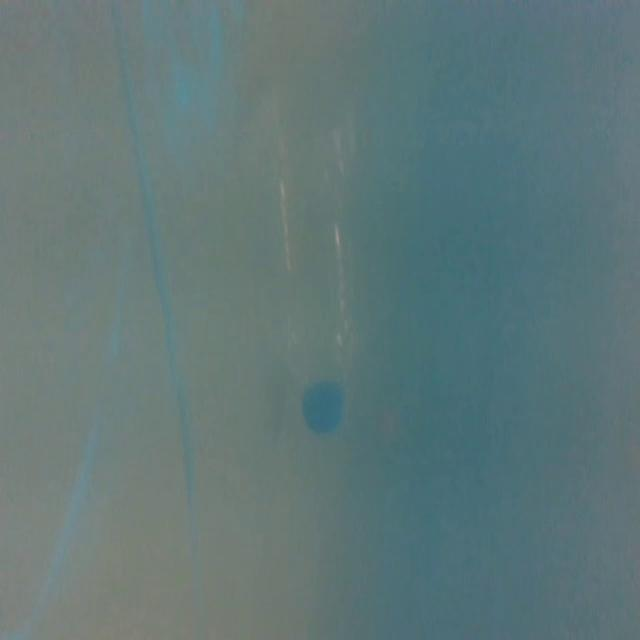plastic bottle: (248, 80, 387, 451)
